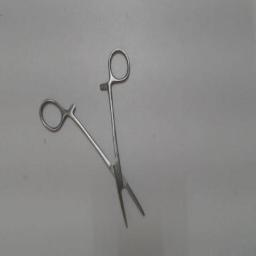Mayo Needle Holder: (36, 44, 152, 238)
